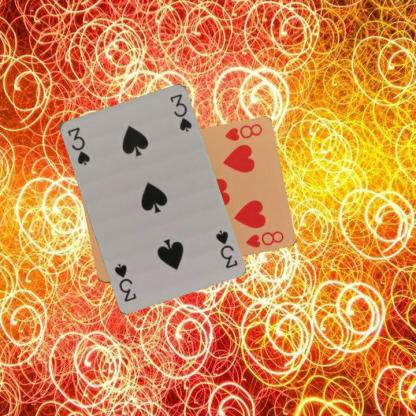3s: (64, 124, 91, 166), (212, 227, 238, 270)
8h: (222, 121, 263, 143)
